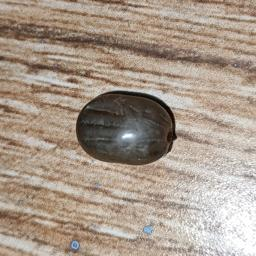Rhipicephalus sanguineus: (75, 92, 177, 165)
